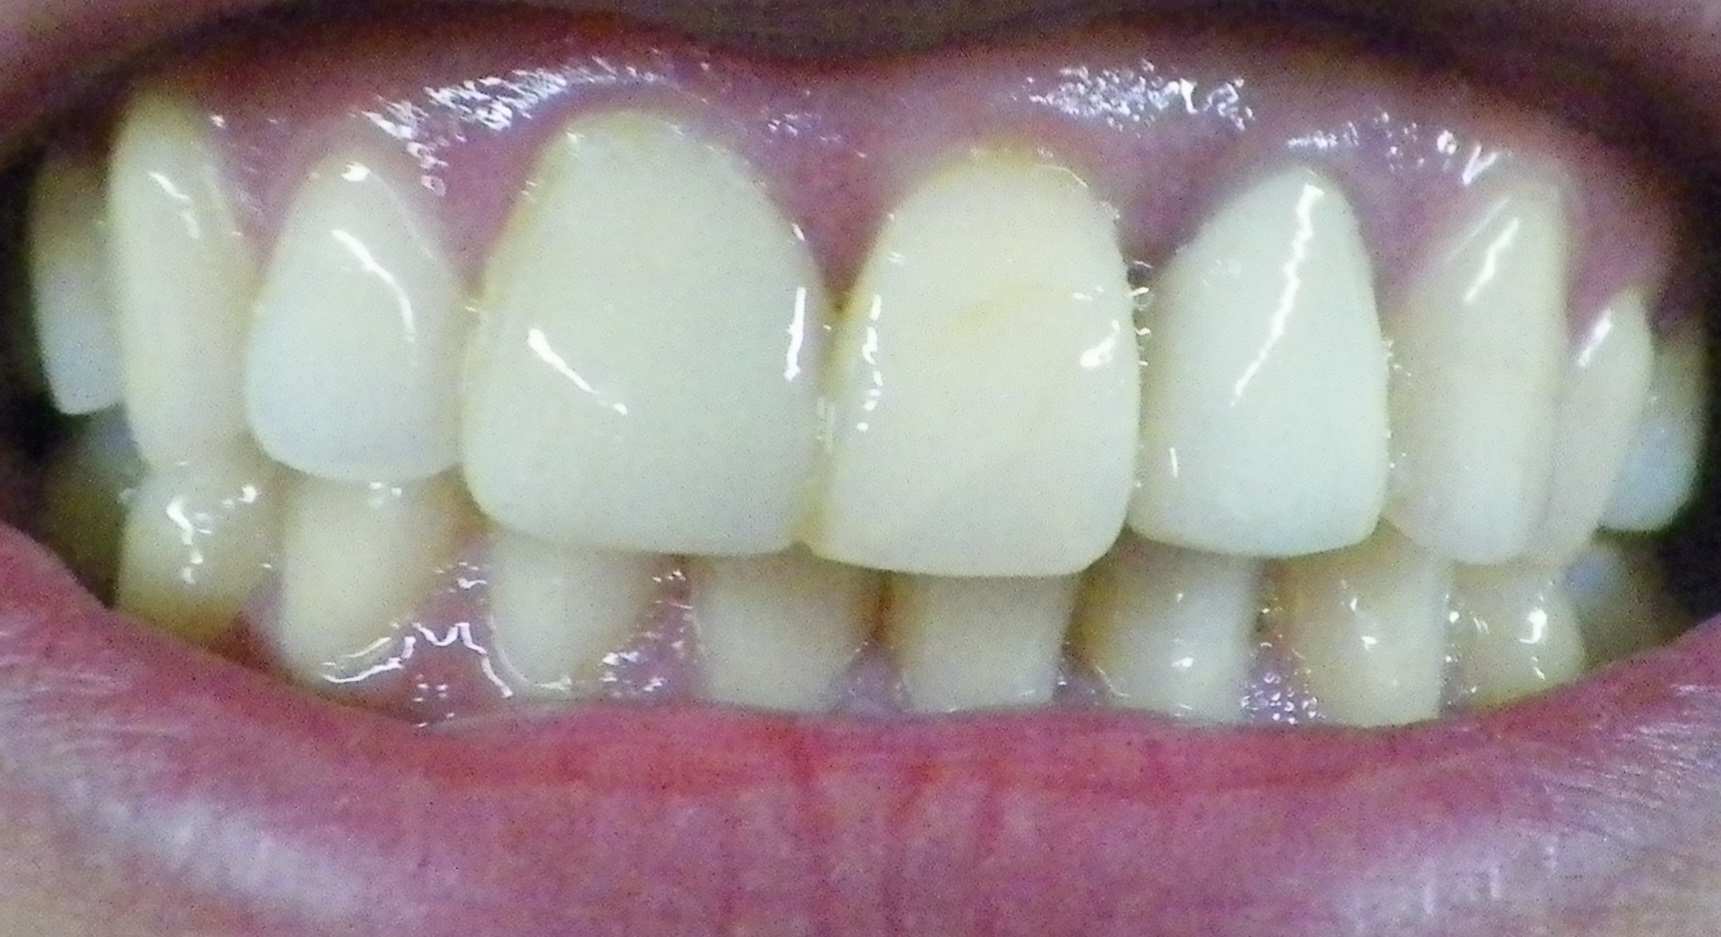boca: (24, 81, 1694, 715)
